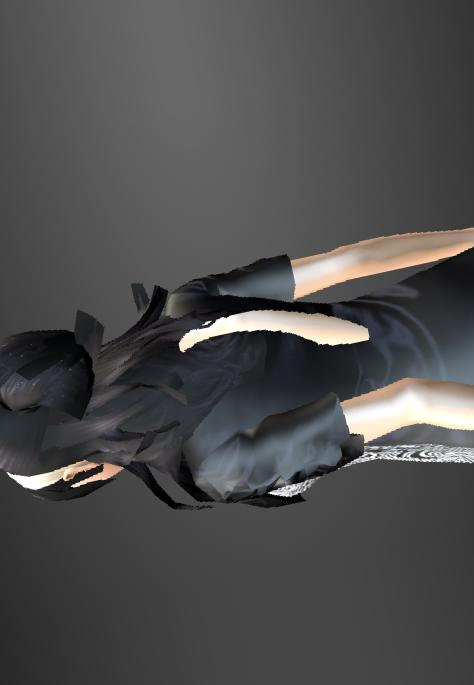clip: (176, 301, 261, 348)
